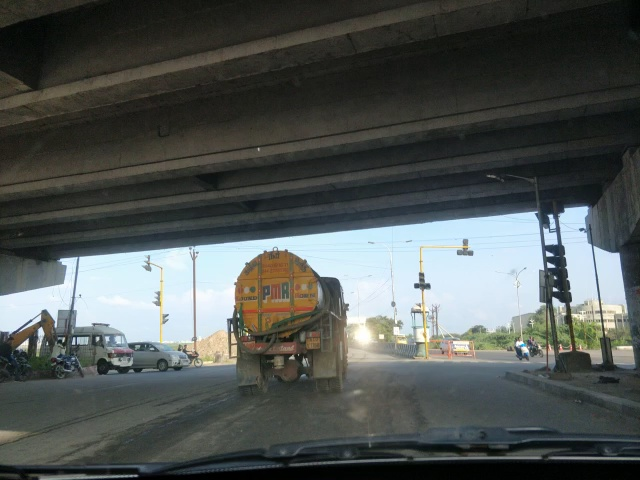car: (113, 341, 193, 372), (437, 334, 471, 354)
motorbike: (49, 340, 90, 378), (175, 344, 205, 367), (510, 336, 533, 362), (526, 336, 548, 360)
truck: (227, 247, 364, 398), (39, 320, 137, 377)
